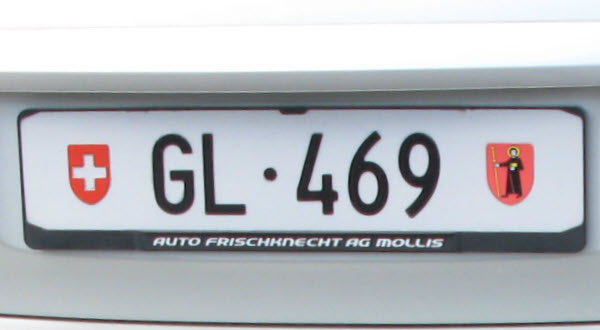license_plate: (18, 108, 587, 235)
